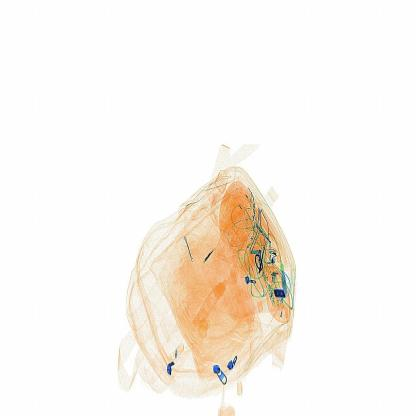wrench: (200, 242, 221, 278)
